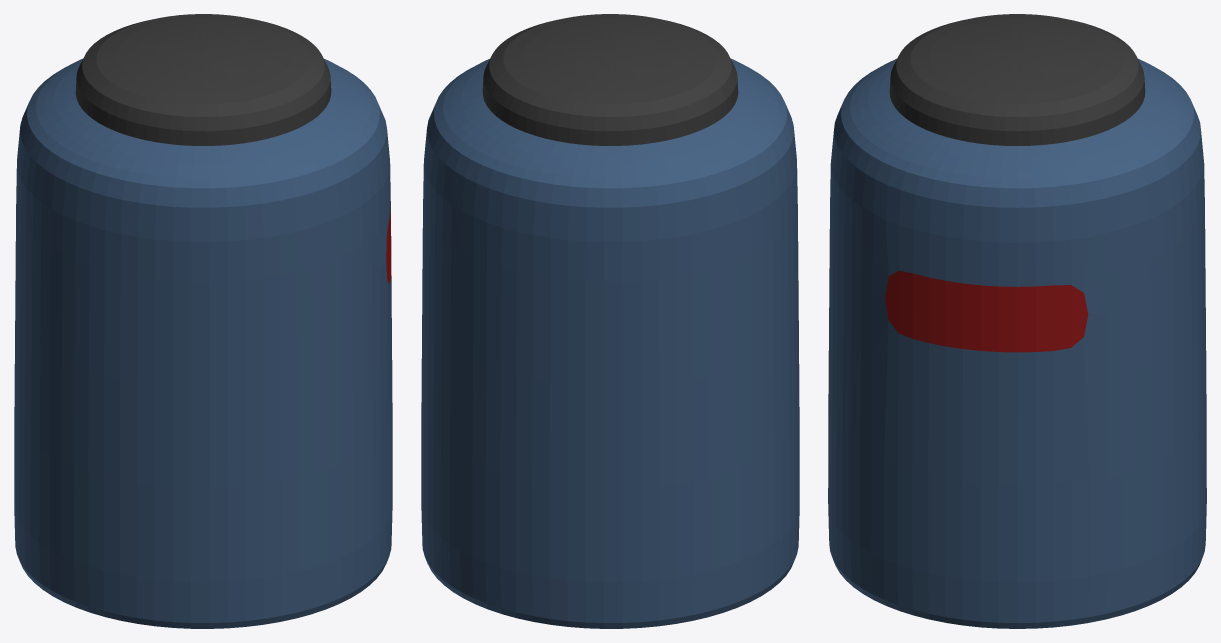
Rendered from beczka.fbx.
3 views of the same model, side by side, from view 1: azimuth 30°, elevation 25°; view 2: azimuth 150°, elevation 25°; view 3: azimuth 270°, elevation 25° (orthographic).
Visible parts, largest first — view 1: Sphere, Sphere.001; view 2: Sphere, Sphere.001; view 3: Sphere, Sphere.001, Sphere.002.
Boxes of the visible parts, x1,y1,x2,y2 form: Sphere: (14,58,392,628); Sphere.001: (75,14,331,145); Sphere: (421,58,799,628); Sphere.001: (482,14,738,145); Sphere: (828,58,1206,628); Sphere.001: (889,14,1145,145); Sphere.002: (885,270,1088,352).
Size of the model in its own units: 515 by 769 by 515.
